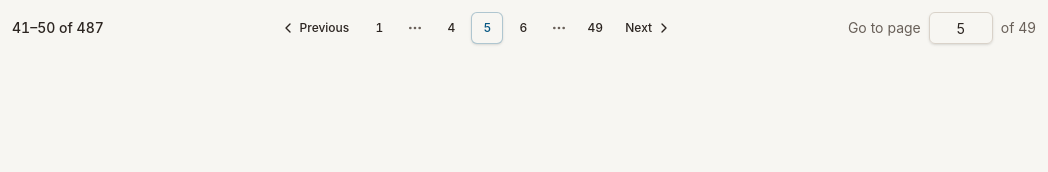
Test: DataPagination › renders jump input when ellipses appear and clamps jump values
Expected: the text "41–50 of 487" is shown, [12, 19, 104, 36]
Expected: the text "of 49" is shown, [1001, 18, 1036, 38]
Replace the text in the field labelled "Go to page" with "0" at [961, 28], box [929, 12, 993, 44]
Press Enter in the field labelled "Go to page", box [929, 12, 993, 44]
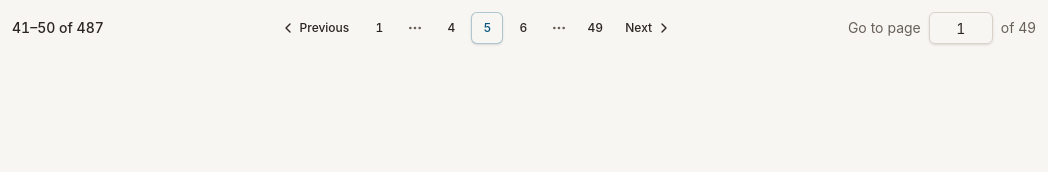
Result: the field labelled "Go to page" holds "1"
Replace the text in the field labelled "Go to page" with "999" at [961, 28], box [929, 12, 993, 44]
Leave the field labelled "Go to page", box [929, 12, 993, 44]
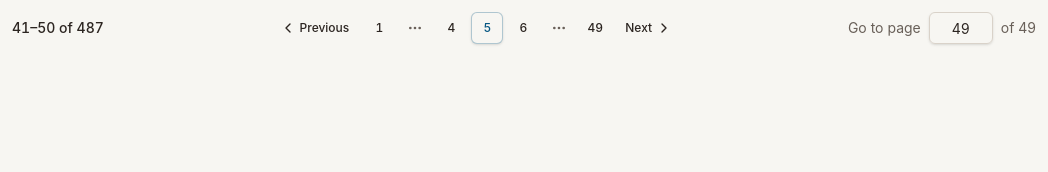
Result: the field labelled "Go to page" holds "49"
Clear the field labelled "Go to page" at [961, 28], box [929, 12, 993, 44]
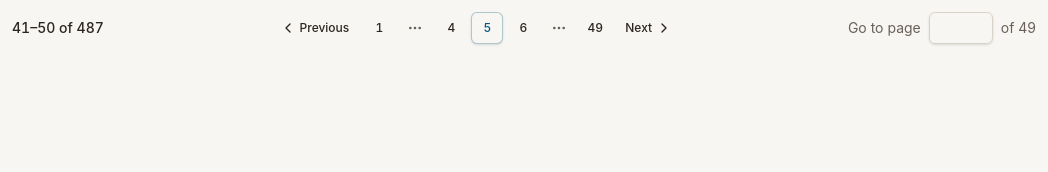
Leave the field labelled "Go to page", box [929, 12, 993, 44]
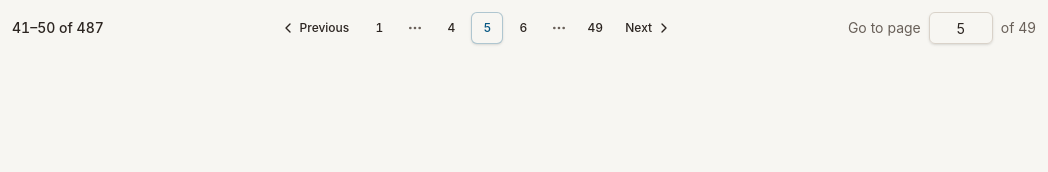
Result: the field labelled "Go to page" holds "5"
Replace the text in the field labelled "Go to page" with "12" at [961, 28], box [929, 12, 993, 44]
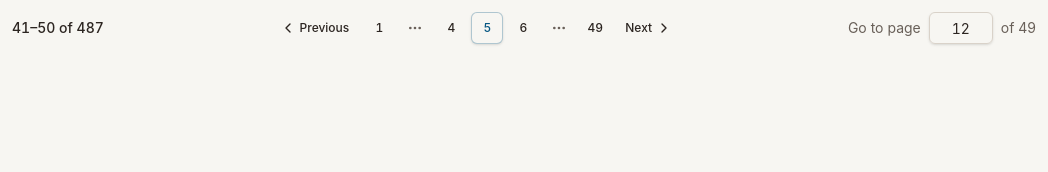
Press Escape in the field labelled "Go to page", box [929, 12, 993, 44]
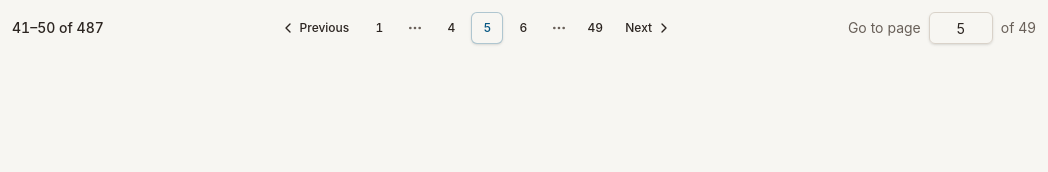
Result: the field labelled "Go to page" holds "5" at [929, 12, 993, 44]
